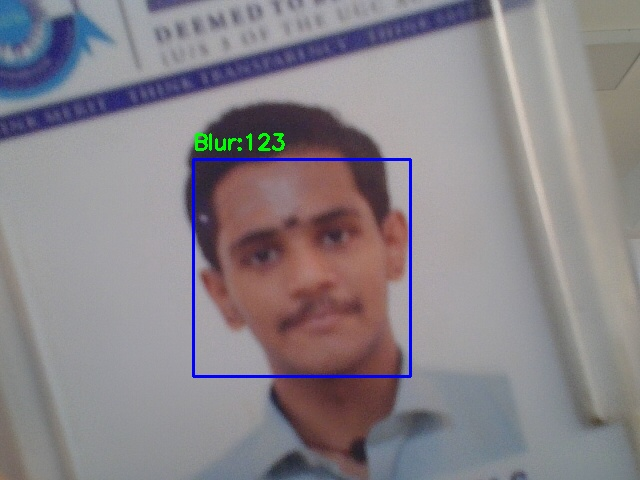fake: (193, 159, 410, 376)
